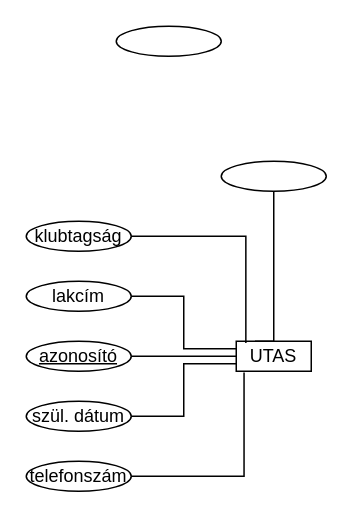
Some shapes in this 353 by 518 pixel diagram are drawn without their labels. The centre of each missing label's shape, as x and y in pixels:
név: the point at 168,40
pontok: the point at 273,175
